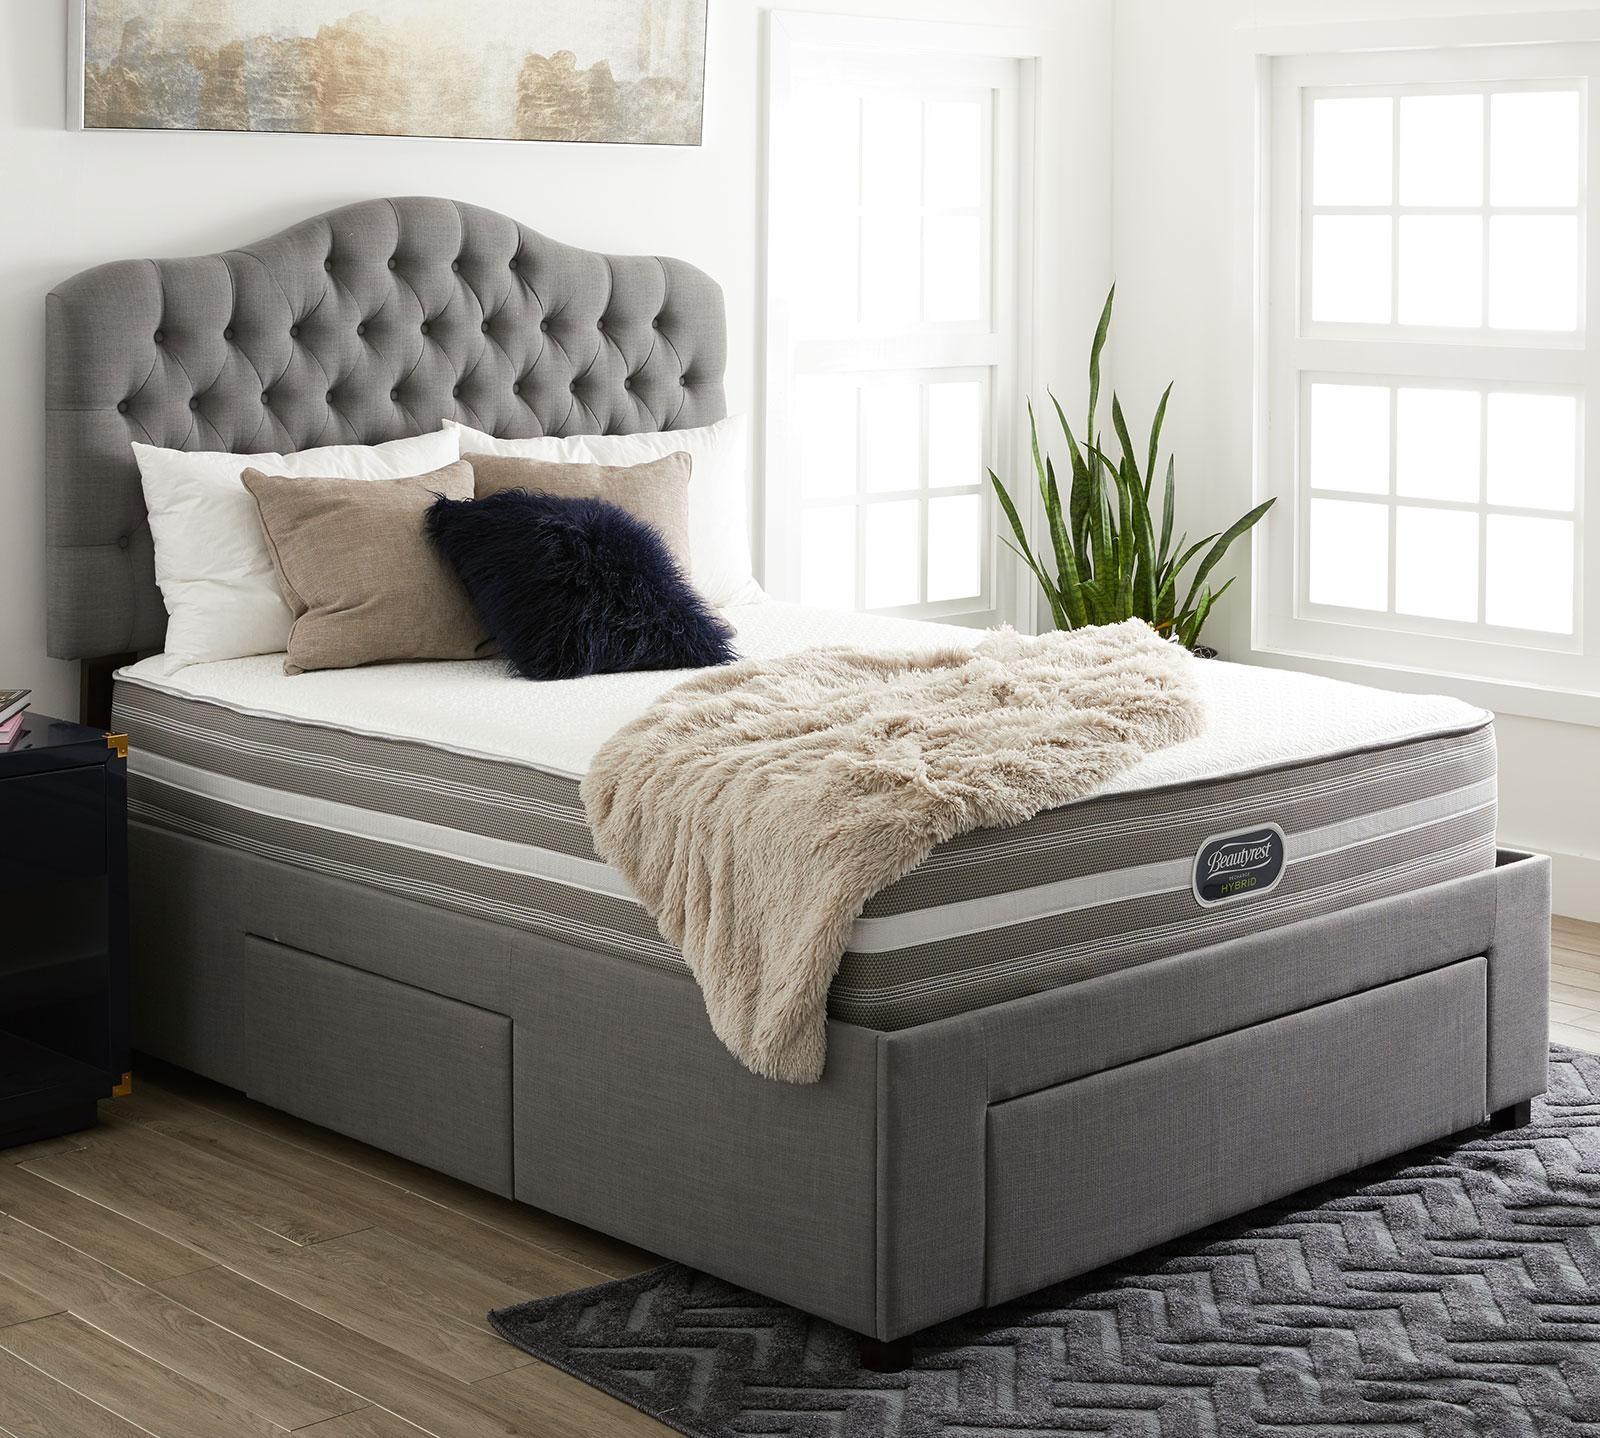bed: (230, 414, 1531, 1110)
